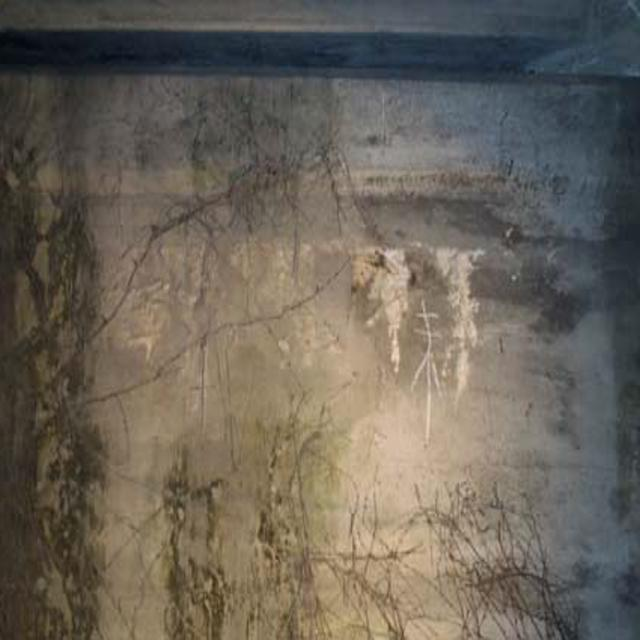freelime: (346, 210, 490, 384)
